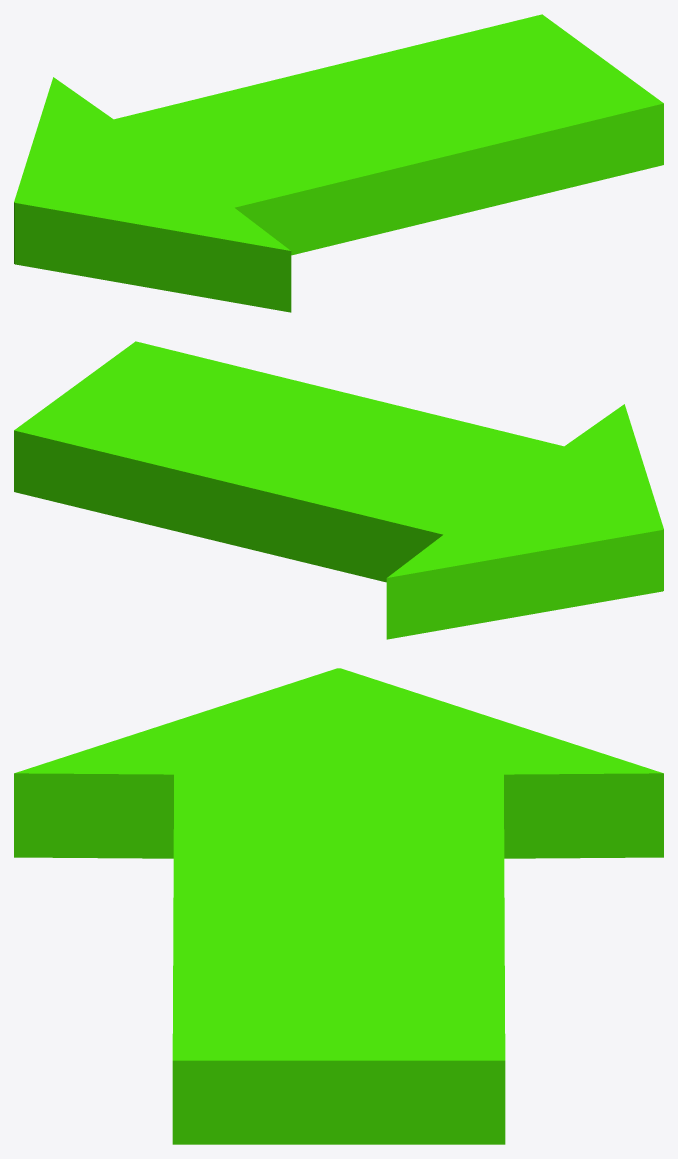
Rendered from Arrow.glb.
3 renders of one model, top to bottom at view 1: azimuth 30°, elevation 25°; view 2: azimuth 150°, elevation 25°; view 3: azimuth 270°, elevation 25°, orthographic. The views are drawn at different scales.
Visible parts, largest first — view 1: Arrow; view 2: Arrow; view 3: Arrow.
Part boxes in pixels (bbox=[...]): Arrow: bbox=[14, 14, 663, 312]; Arrow: bbox=[14, 341, 663, 639]; Arrow: bbox=[14, 668, 663, 1144].
Bounding box in the file's own units: 0.8508 × 0.0851 × 0.5956.
